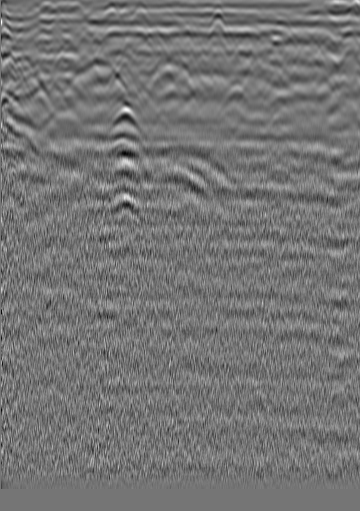가스: (102, 189, 146, 224)
상수: (47, 28, 67, 48)
오수: (301, 31, 321, 51)
우수: (158, 31, 178, 51)
